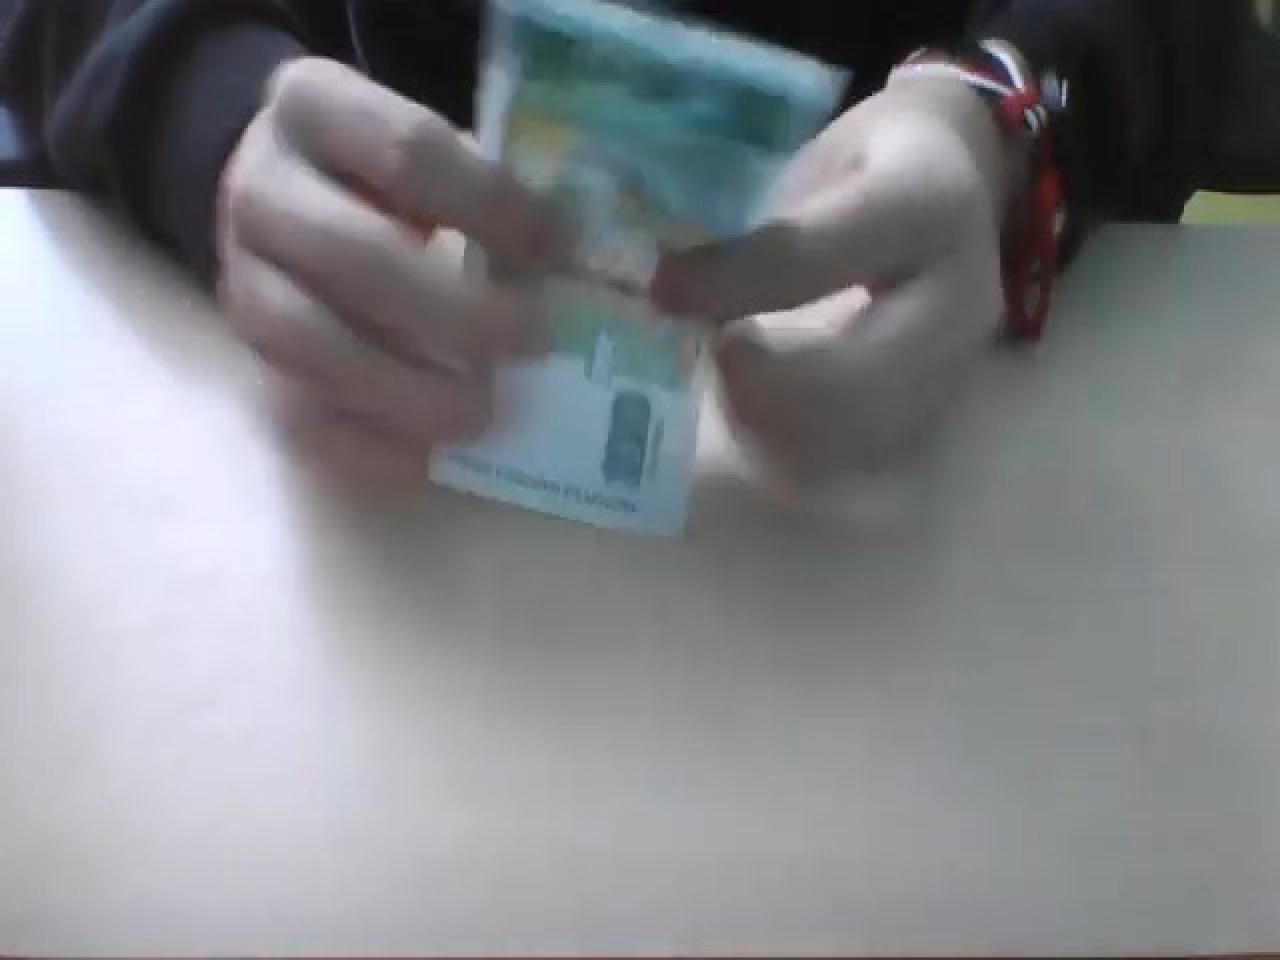100leva: (422, 0, 850, 538), (424, 250, 708, 538)
